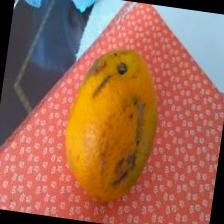Orange Rotten: (53, 35, 173, 213)
